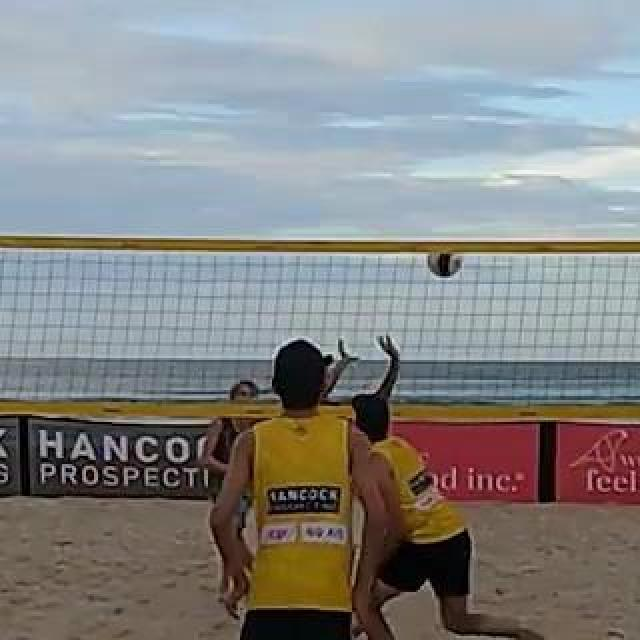volleyball: (428, 252, 462, 278)
